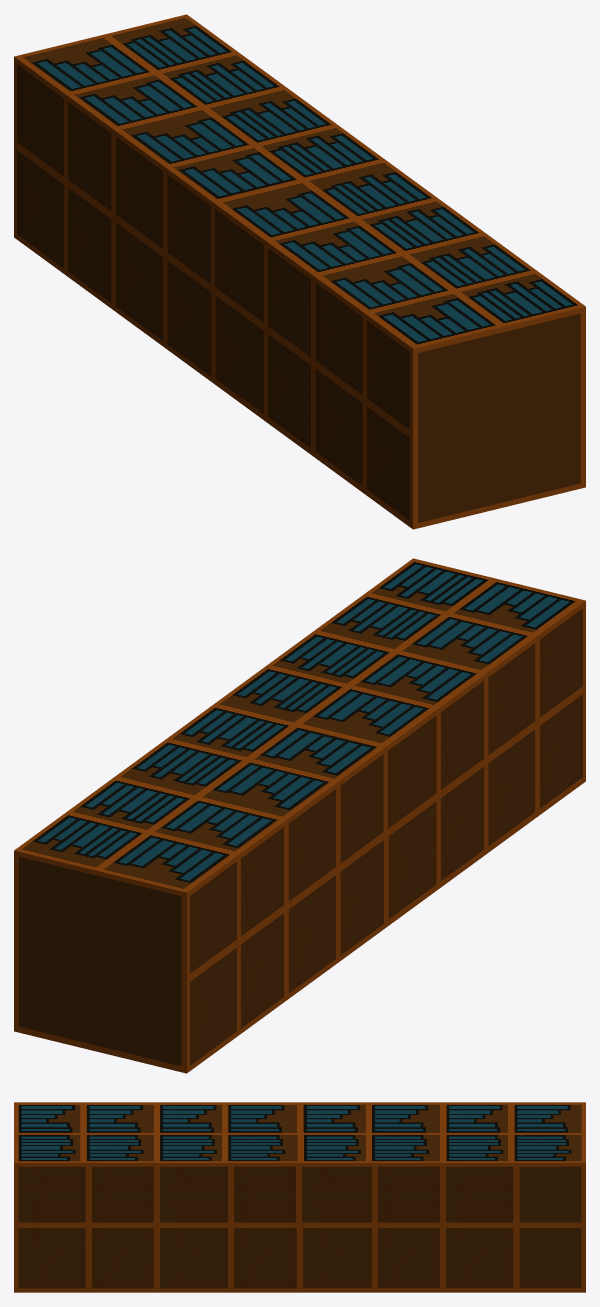
The model's file is BlockI4.fbx.
3 renders of one model, top to bottom at view 1: azimuth 30°, elevation 25°; view 2: azimuth 150°, elevation 25°; view 3: azimuth 270°, elevation 25°, orthographic. The views are drawn at different scales.
Visible parts, largest first — view 1: 立方体.006; view 2: 立方体.006; view 3: 立方体.006.
Boxes of the visible parts, <box> form: 立方体.006: <box>14,14,585,529</box>; 立方体.006: <box>14,558,585,1073</box>; 立方体.006: <box>14,1102,585,1292</box>.
Bounding box in the file's own units: 4 × 4 × 16.
